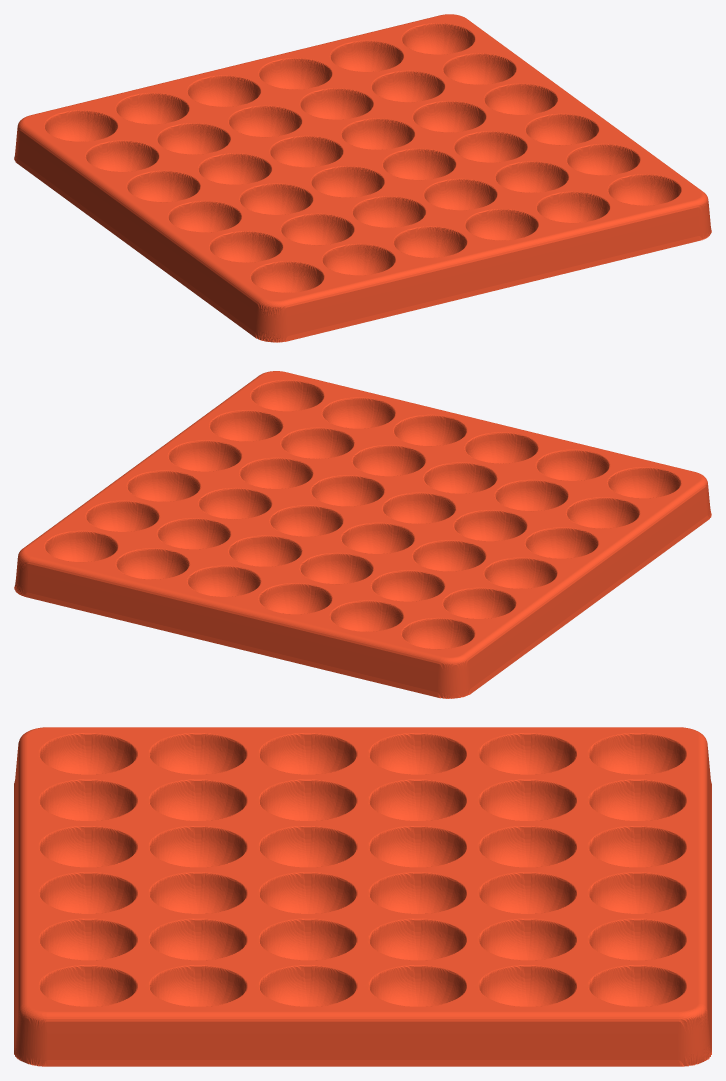
The model's file is mold.glb.
3 renders of one model, top to bottom at view 1: azimuth 30°, elevation 25°; view 2: azimuth 150°, elevation 25°; view 3: azimuth 270°, elevation 25°, orthographic. The views are drawn at different scales.
Visible parts, largest first — view 1: geometry_0; view 2: geometry_0; view 3: geometry_0.
Boxes of the visible parts, x1,y1,x2,y2 form: geometry_0: (14, 14, 711, 342); geometry_0: (14, 371, 711, 698); geometry_0: (14, 727, 711, 1066).
Size of the model in its own units: 0.1877 by 0.0147 by 0.1877.
